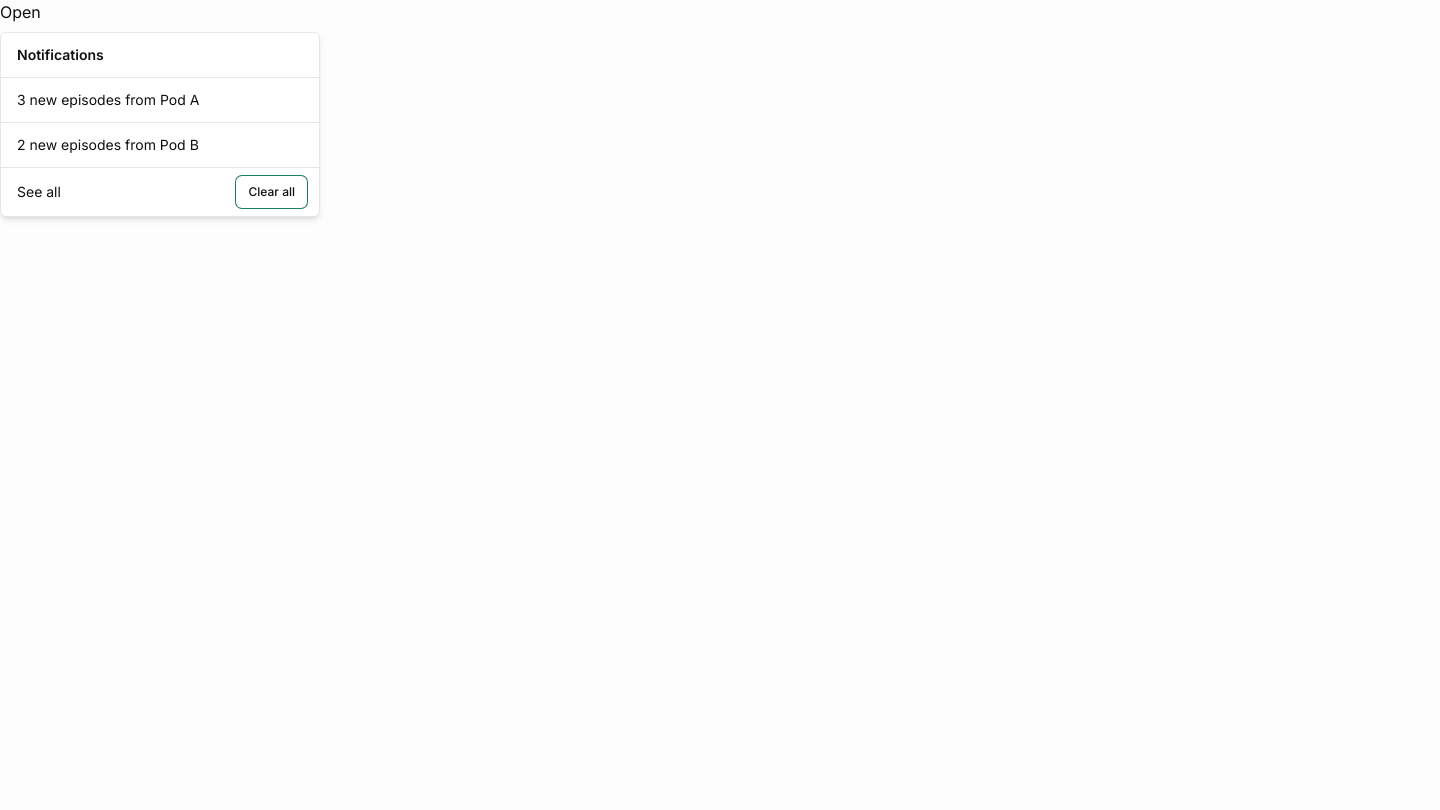
Test: NotificationPopover › (l) clicking an item removes it from the displayed list
Click the link "3 new episodes from Pod A" at coordinates (108, 100), box [17,91,199,108]
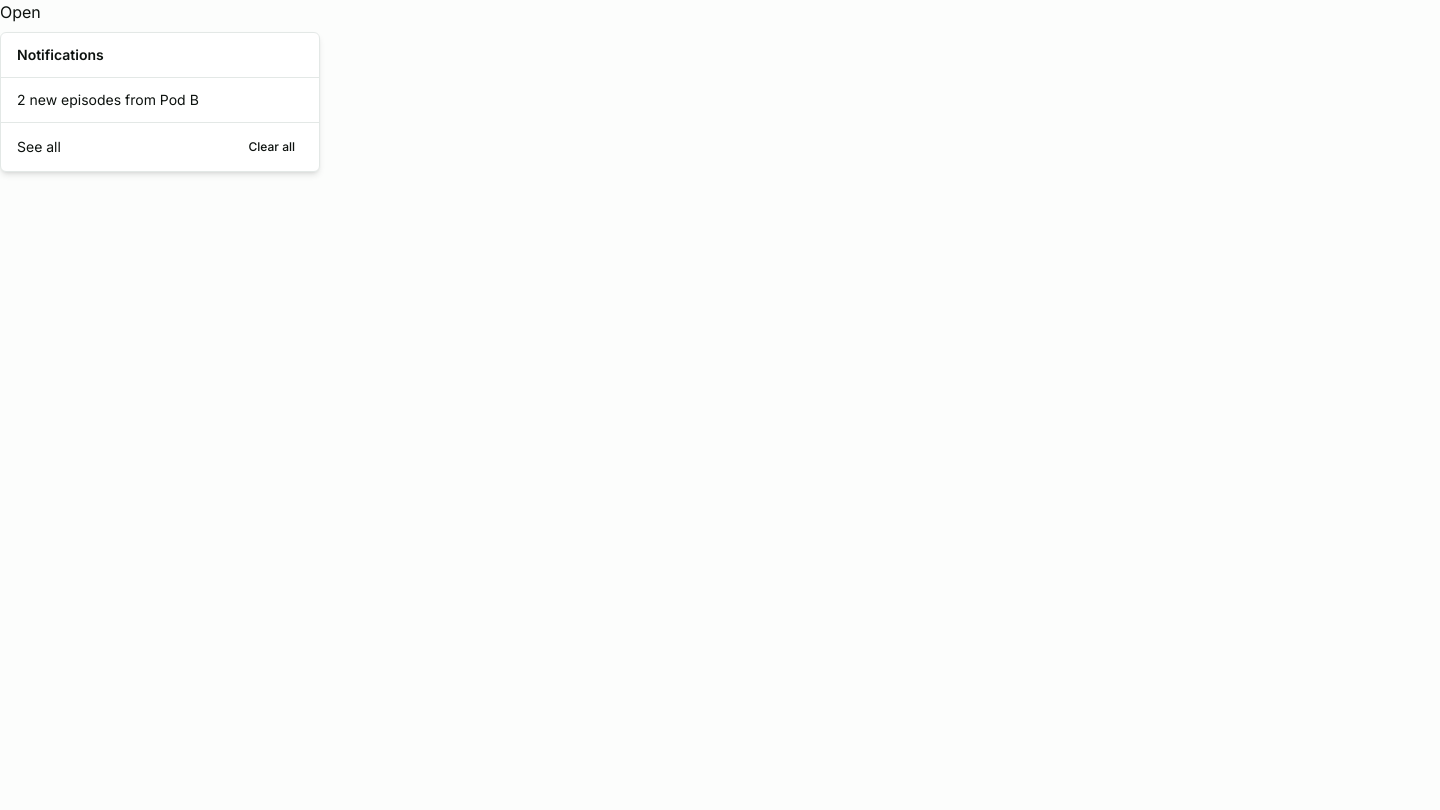
Result: the link "from Pod A" is gone
